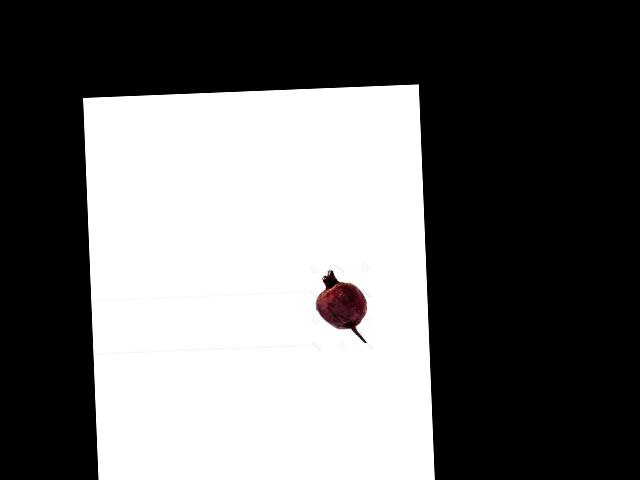beet: (315, 268, 368, 344)
